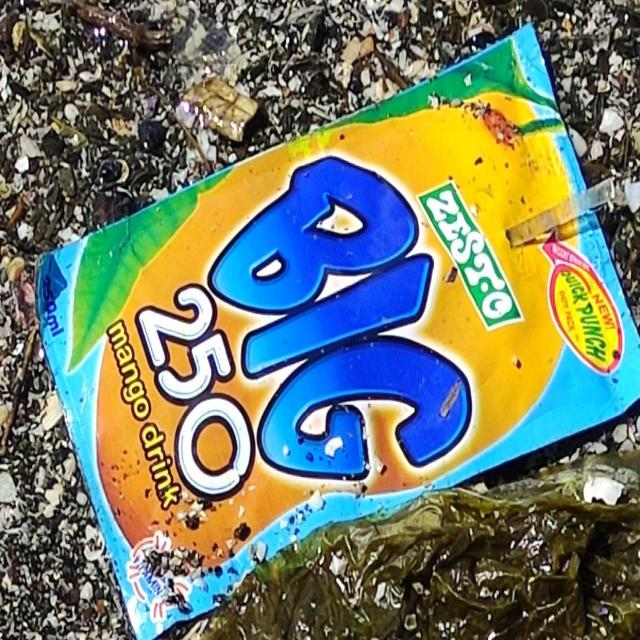plastic_waste: (35, 21, 640, 640)
